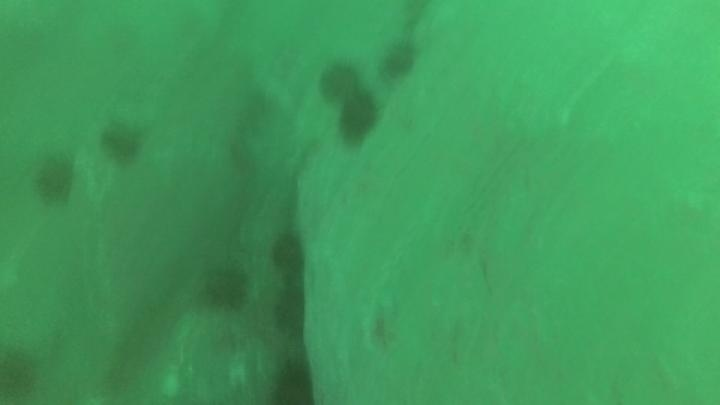echinus: (30, 151, 79, 206), (335, 89, 382, 146), (200, 261, 252, 312), (97, 118, 148, 168), (0, 343, 42, 403), (267, 356, 318, 405), (316, 59, 363, 105), (267, 229, 308, 279), (379, 38, 421, 83)
